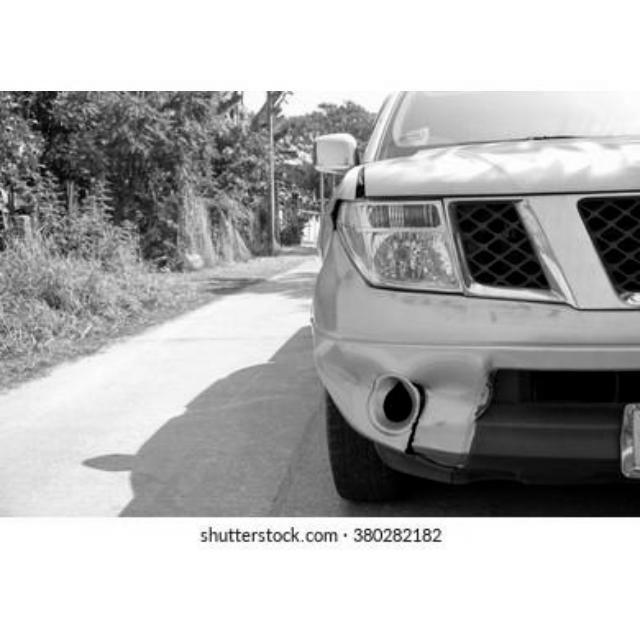front-bumper-dent: (310, 335, 638, 477)
